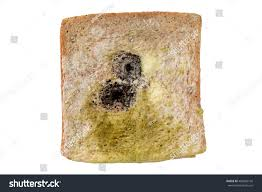mold_bread: (72, 111, 187, 157), (83, 42, 151, 112), (192, 142, 210, 161), (194, 102, 207, 120)
